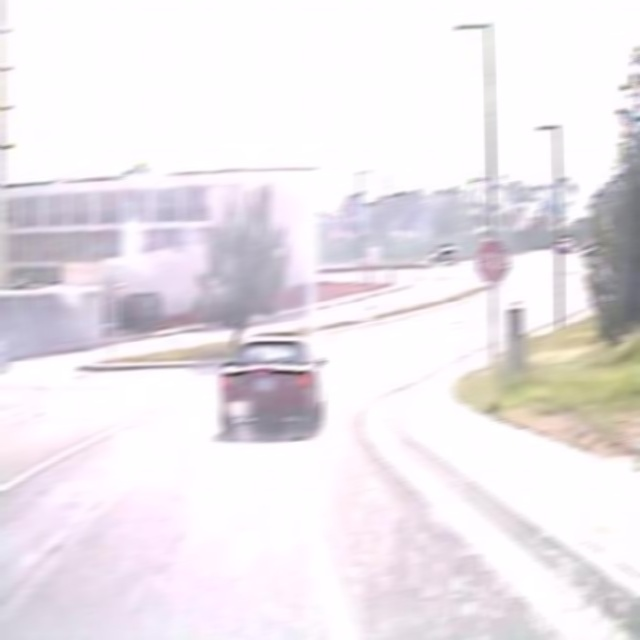stop: (477, 237, 510, 284)
